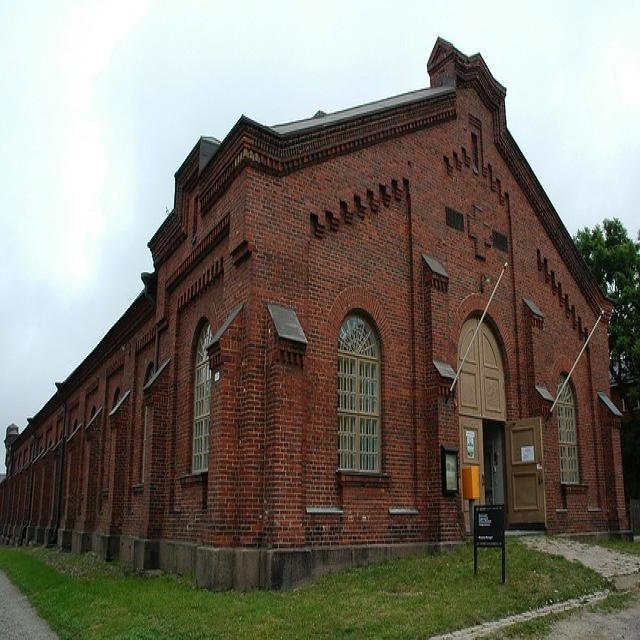building: (0, 32, 633, 596)
